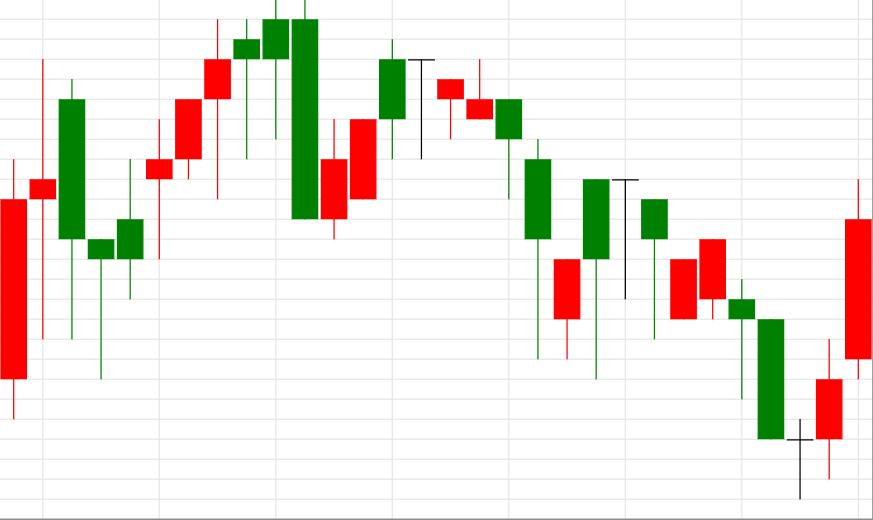morning_star_rise: (583, 178, 842, 499)
